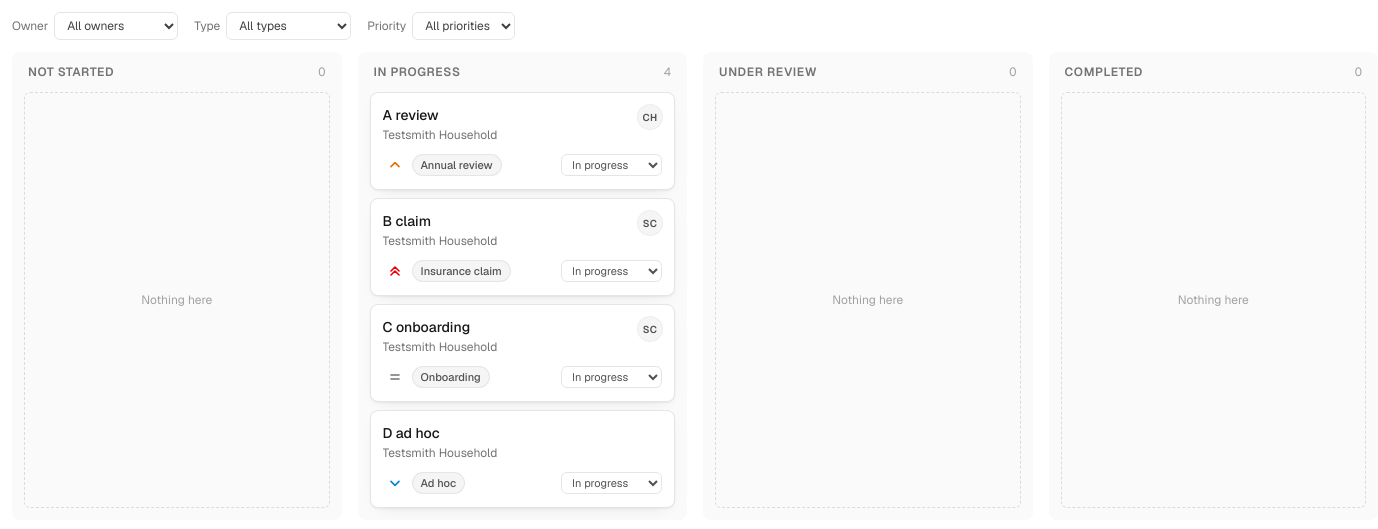
Scenario: filters › the board shows only matching cards, counts them, and clears
The image size is (1378, 529).
Select "Sarah Chen" in the dropdown named "Filter by owner": (116, 26) [54,12,178,40]
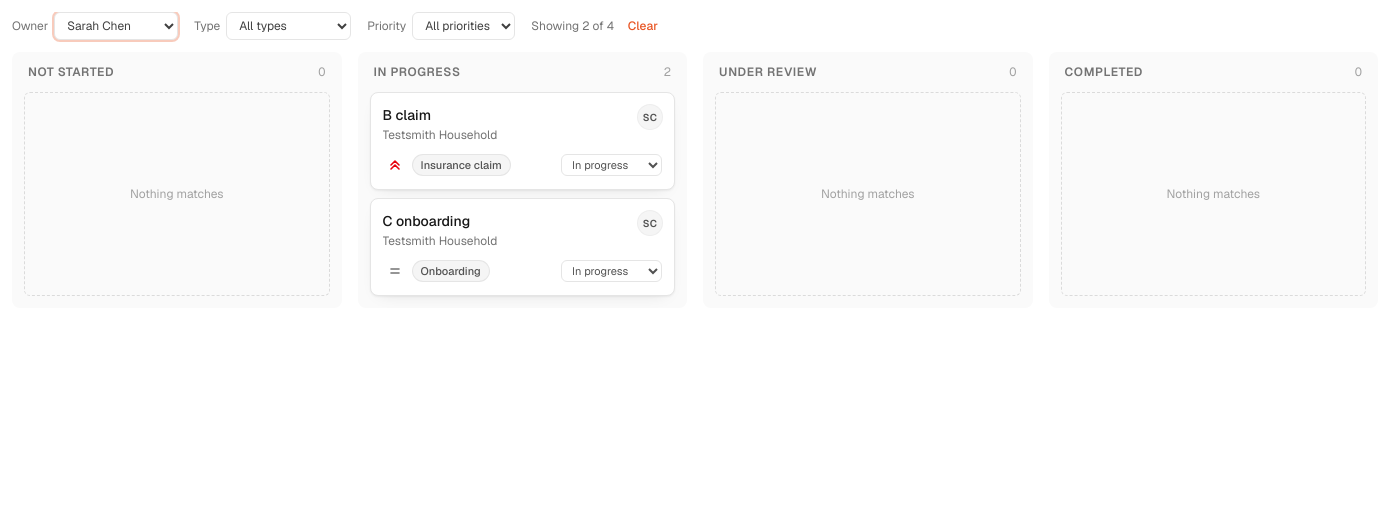
Now the text "Showing 2 of 4" is shown, box [531,18,614,34]
Click the button "Clear": (643, 26) [622,16,664,36]
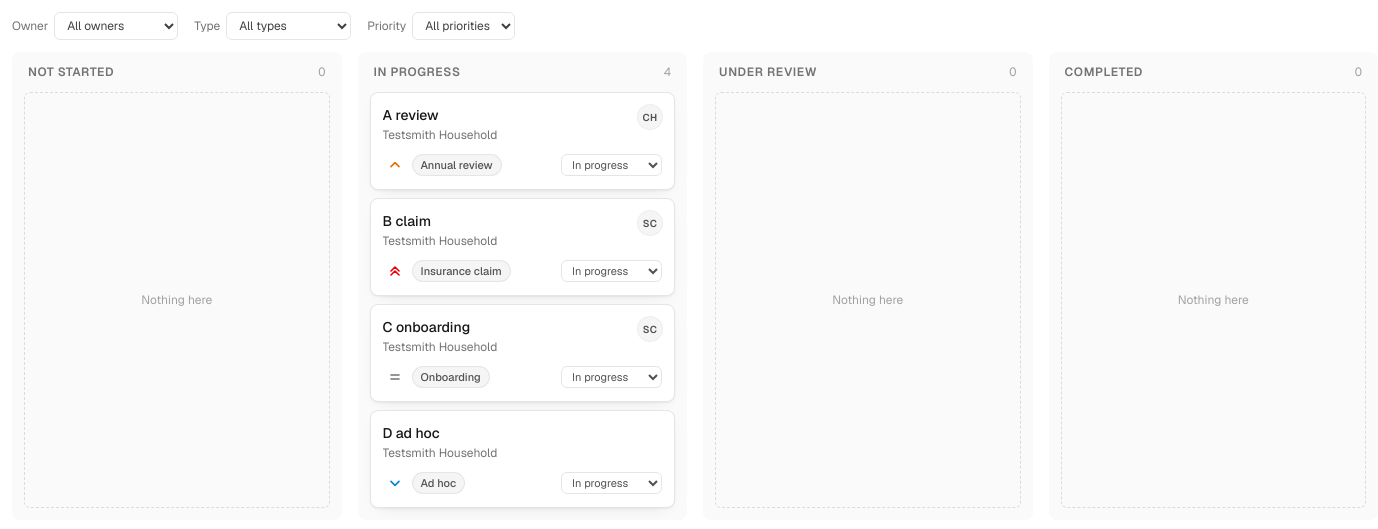
Now the text "Showing" is gone
